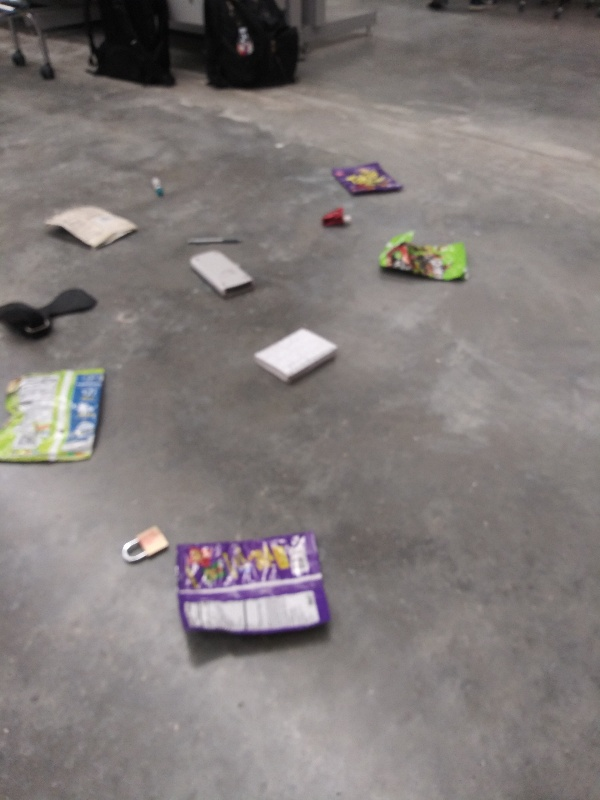bag: (167, 535, 328, 654), (1, 359, 111, 470), (372, 230, 475, 291), (37, 202, 144, 250), (324, 159, 410, 202)
bottle: (233, 24, 258, 59)
